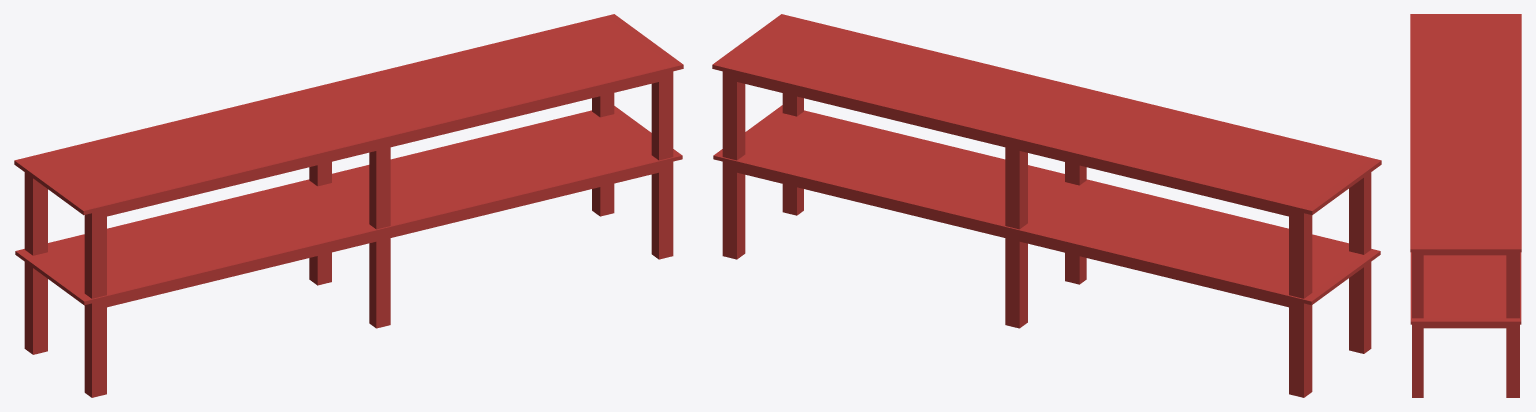
Rendered from tabel.fbx.
3 views of the same model, side by side, from view 1: azimuth 30°, elevation 25°; view 2: azimuth 150°, elevation 25°; view 3: azimuth 270°, elevation 25° (orthographic). The views are drawn at different scales.
Visible parts, largest first — view 1: pCube2, pCube1; view 2: pCube2, pCube1; view 3: pCube2, pCube1.
Boxes of the visible parts, x1=… form: pCube2: x1=14, y1=14, x2=683, y2=397; pCube1: x1=15, y1=106, x2=682, y2=310; pCube2: x1=712, y1=14, x2=1381, y2=397; pCube1: x1=713, y1=105, x2=1380, y2=310; pCube2: x1=1410, y1=14, x2=1521, y2=397; pCube1: x1=1410, y1=252, x2=1521, y2=328.
Size of the model in its own units: 10.32 by 3.12 by 2.06.
